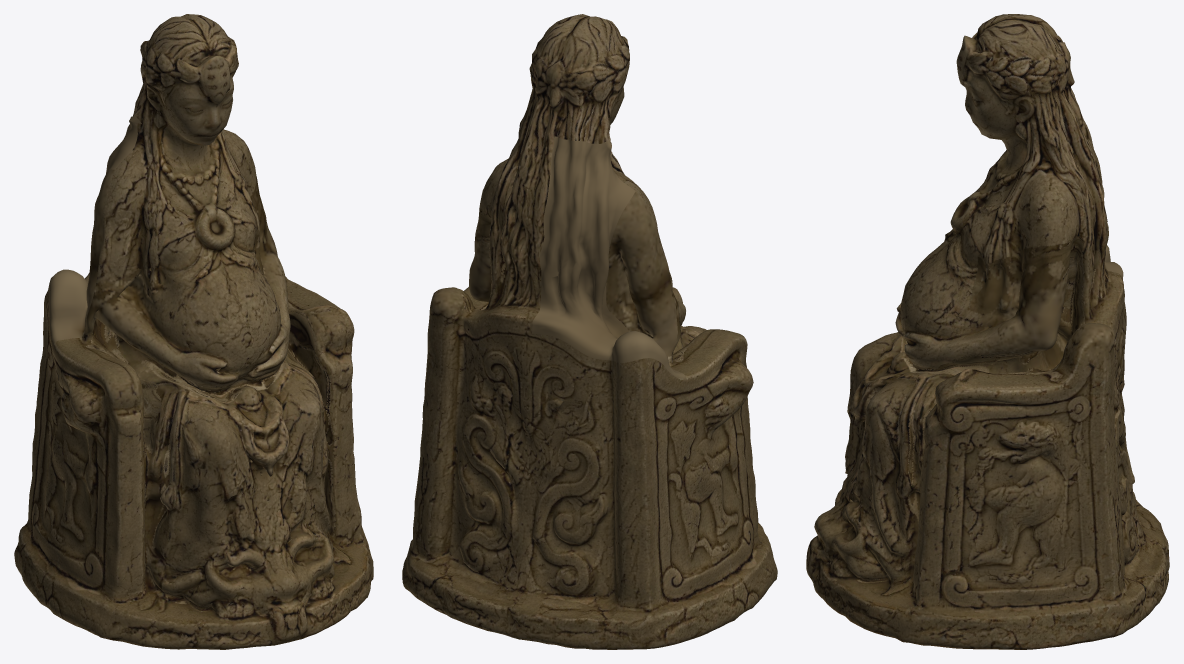
3 views of the same model, side by side, from view 1: azimuth 30°, elevation 25°; view 2: azimuth 150°, elevation 25°; view 3: azimuth 270°, elevation 25° (orthographic). The views are drawn at different scales.
Visible parts, largest first — view 1: tripo_node_46a9490c.001; view 2: tripo_node_46a9490c.001; view 3: tripo_node_46a9490c.001.
Boxes of the visible parts, x1=… form: tripo_node_46a9490c.001: x1=14, y1=14, x2=373, y2=649; tripo_node_46a9490c.001: x1=402, y1=14, x2=777, y2=649; tripo_node_46a9490c.001: x1=806, y1=14, x2=1169, y2=649.
Size of the model in its own units: 55.78 by 97.73 by 57.15.
